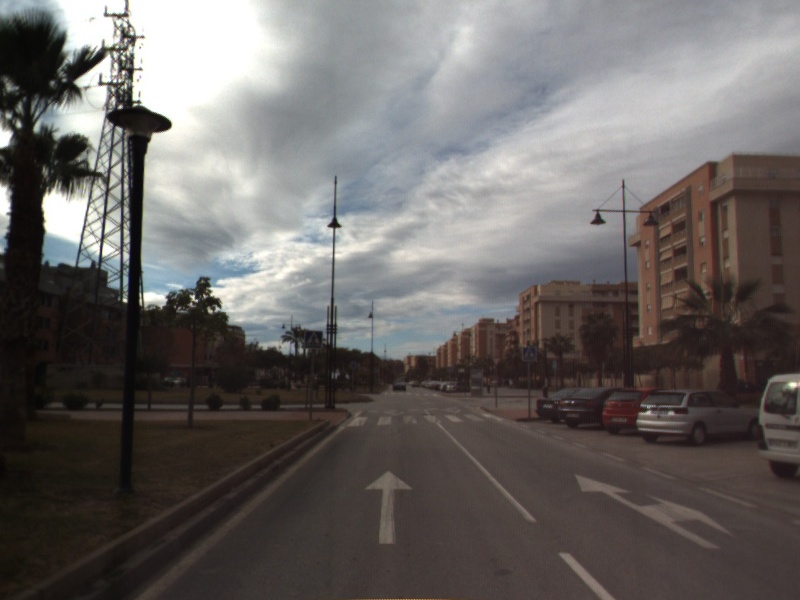STRAIGHT: (363, 468, 415, 546)
STRAIGHT_RIGHT: (572, 472, 736, 551)
